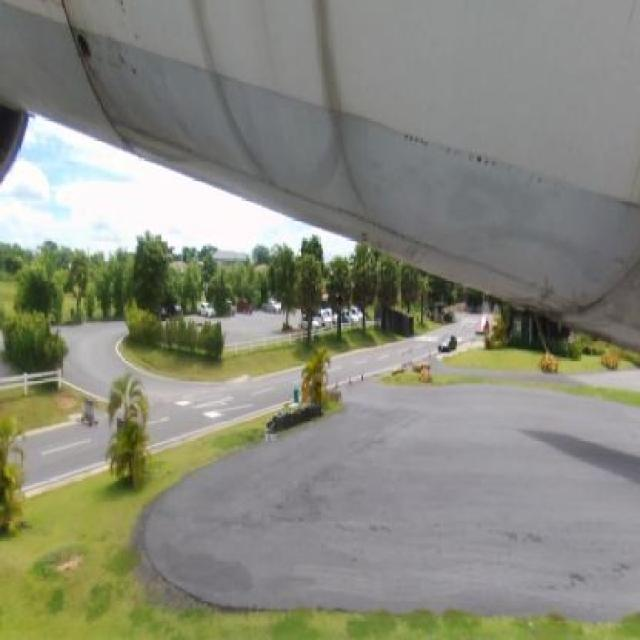Missing-Rivet: (402, 126, 542, 192)
Rust: (284, 1, 393, 230), (73, 7, 196, 170), (179, 0, 280, 192), (491, 226, 640, 356)
